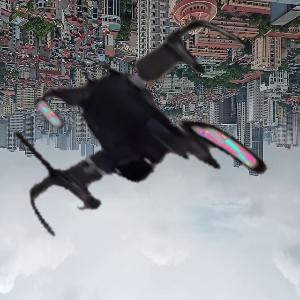drone: (8, 2, 300, 294)
